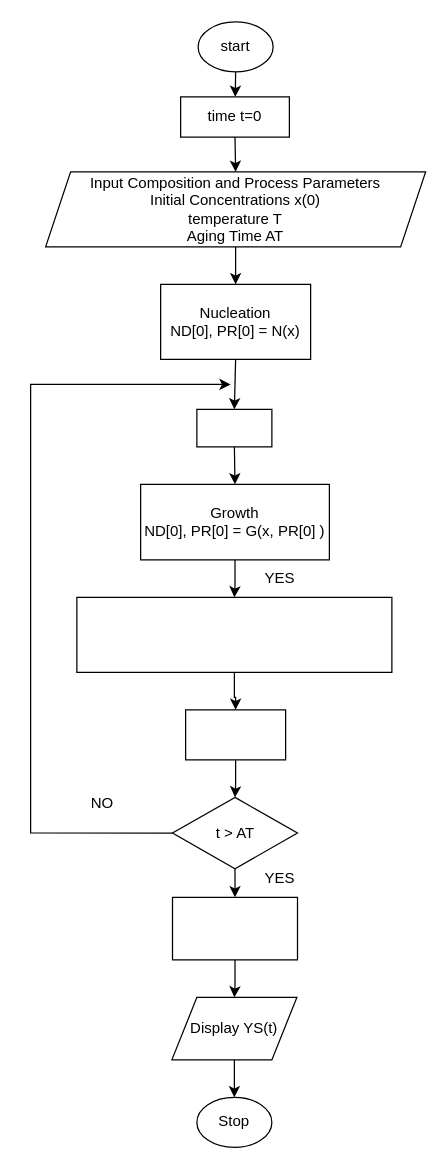
This 448x1170 diagram has some shape labels left out. Each missing label, with the centre of its shape:
"t += dt" belongs at (234,427).
"Update x(TVF)" belongs at (235,734).
"Volume Fraction VF[0] = VF(ND[0], PR[0]) Total Volume Fraction TVF(t) = VF[0]" belongs at (234,634).
"Yield Strength YS(t)" belongs at (234,928).
